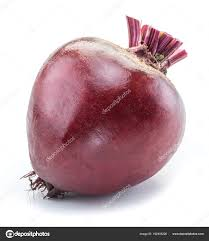beet: (27, 18, 186, 196)
